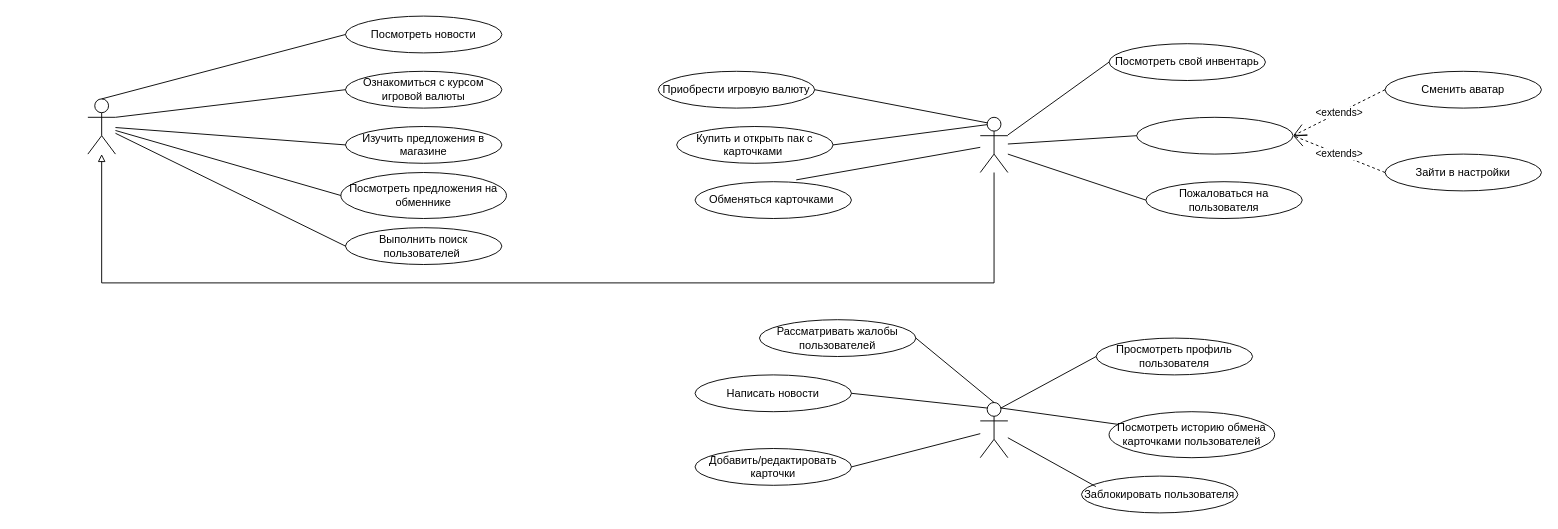
Image size: 1558x529. Some labels were removed from this diagram. The shapes that lost their labels are listed below. From the top down, each one's box as (x1, y1, x2, y2) in pixels, then its label:
(87, 98, 115, 154): Неавторизованный пользователь
(979, 116, 1008, 172): Авторизованнный пользователь
(1136, 116, 1293, 154): Посмотреть свой профиль
(979, 402, 1008, 458): Администратор
